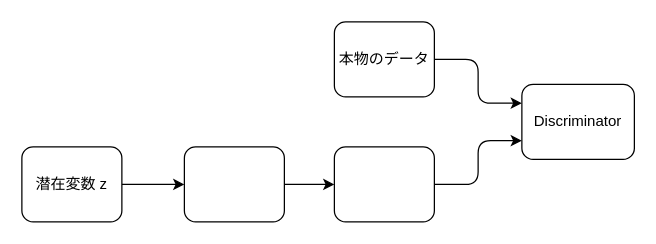
Some shapes in this 656 by 244 pixel diagram are drawn without their labels. Each missing label, with the centre of its shape:
"Generator" belongs at (233,184).
"偽物のデータ" belongs at (383,184).
